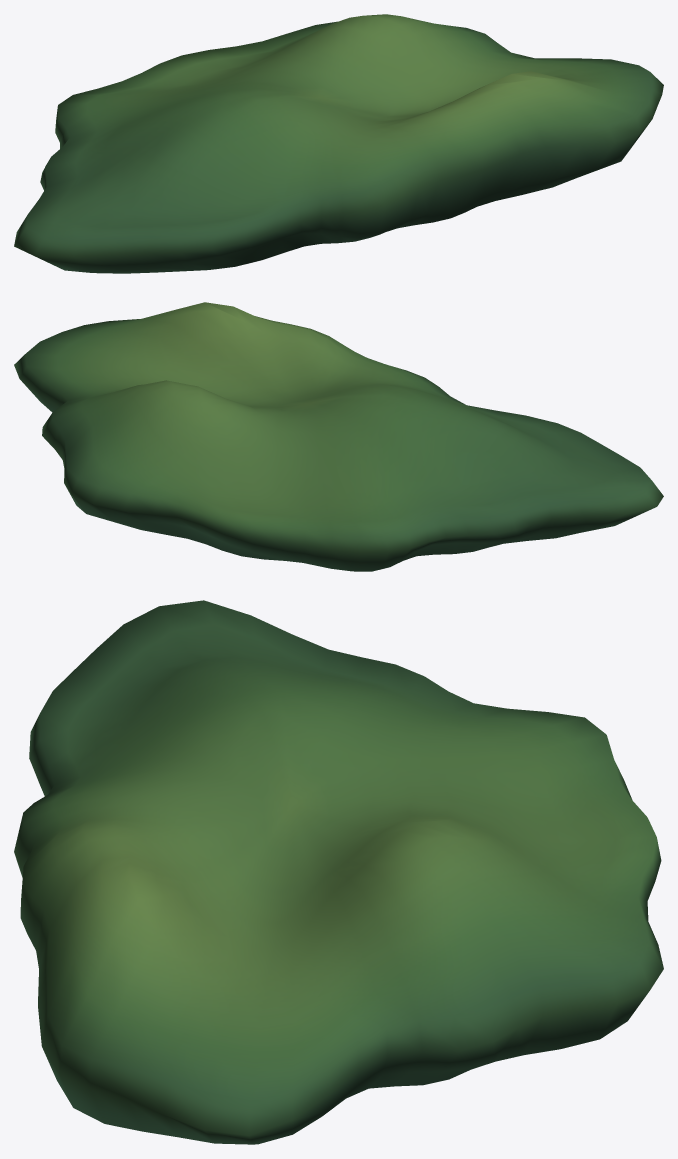
File: ForestEdge_B.fbx
3 views of the same model, one above another, from view 1: azimuth 30°, elevation 25°; view 2: azimuth 150°, elevation 25°; view 3: azimuth 270°, elevation 25° (orthographic). The views are drawn at different scales.
Parts seen in each view (by area): view 1: ForestEdge_B; view 2: ForestEdge_B; view 3: ForestEdge_B.
Part boxes in pixels (x1,y1,x2,y2): ForestEdge_B: (14, 14, 663, 273); ForestEdge_B: (14, 302, 663, 571); ForestEdge_B: (14, 600, 663, 1144).
Bounding box in the file's own units: 3819 × 634 × 2019.
Materials: 1 (1 with a texture image).
